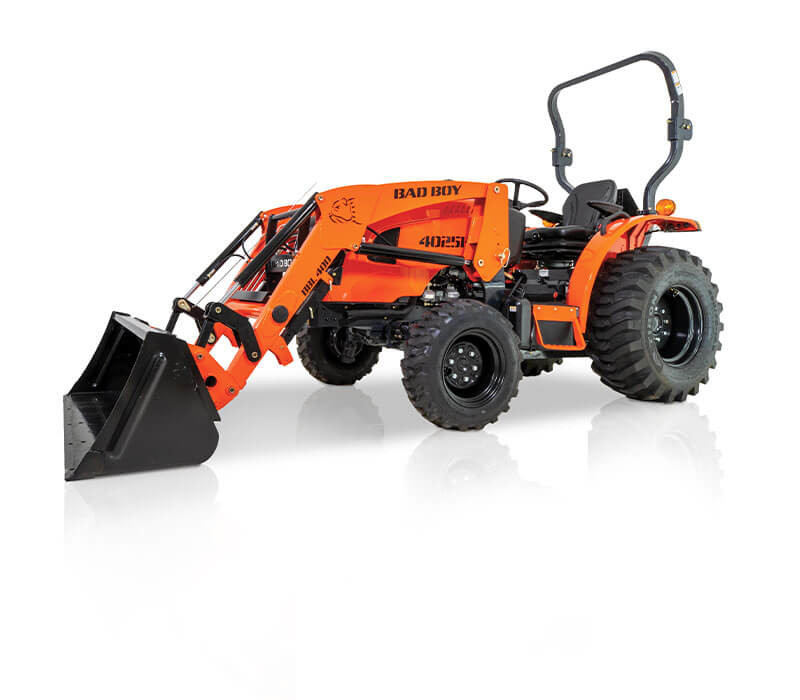tractor: (61, 50, 727, 484)
